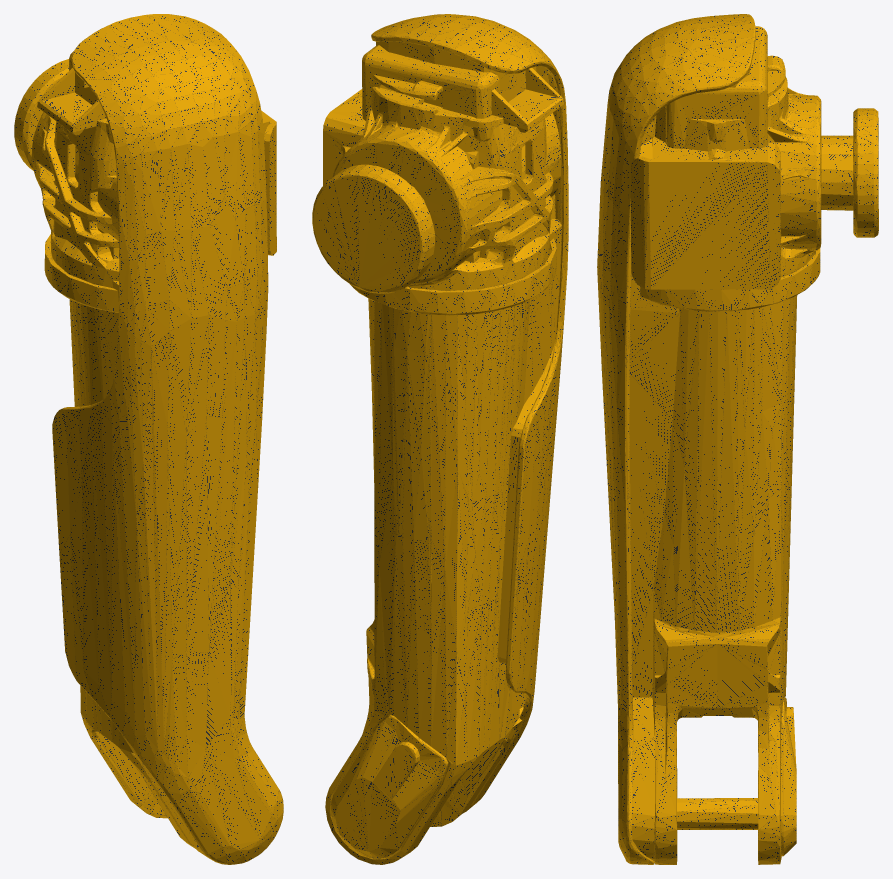
The model's file is rear_right_upper_leg.obj.
The picture shows the model from 3 angles, left to right: view 1: azimuth 30°, elevation 25°; view 2: azimuth 150°, elevation 25°; view 3: azimuth 270°, elevation 25°; orthographic projection. The views are drawn at different scales.
Visible parts, largest first — view 1: rear_right_upper_leg; view 2: rear_right_upper_leg; view 3: rear_right_upper_leg.
Part boxes in pixels (left/top/right/bottom): rear_right_upper_leg: left=14, top=14, right=283, bottom=864; rear_right_upper_leg: left=312, top=14, right=568, bottom=864; rear_right_upper_leg: left=597, top=14, right=878, bottom=864.
Size of the model in its own units: 0.1011 by 0.4185 by 0.1322.
